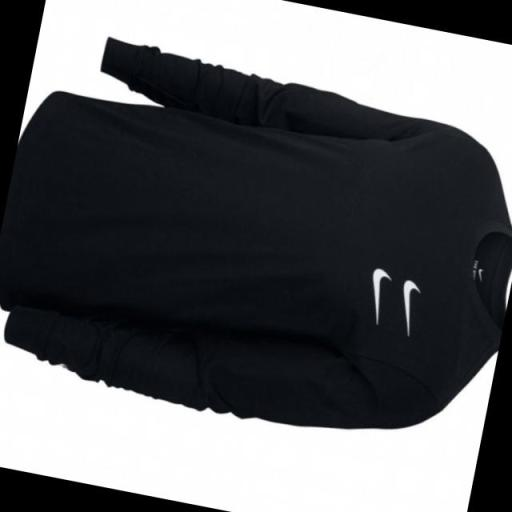Nike: (359, 264, 395, 330)
